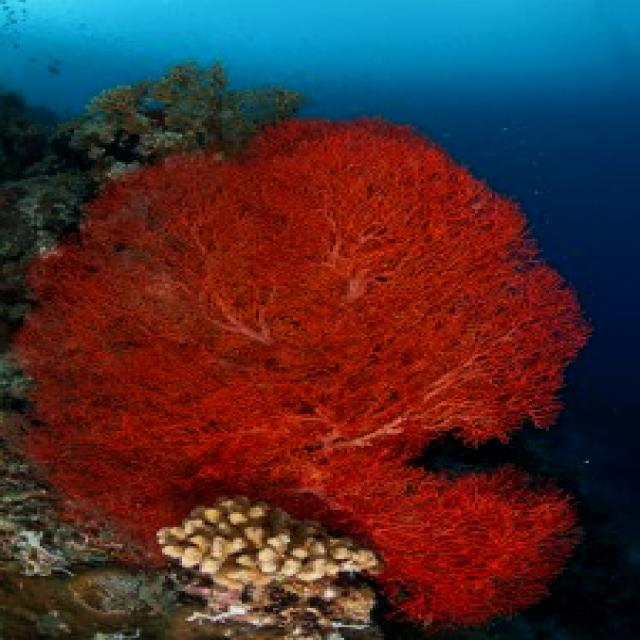Coral: (7, 114, 592, 640), (155, 491, 387, 624)
